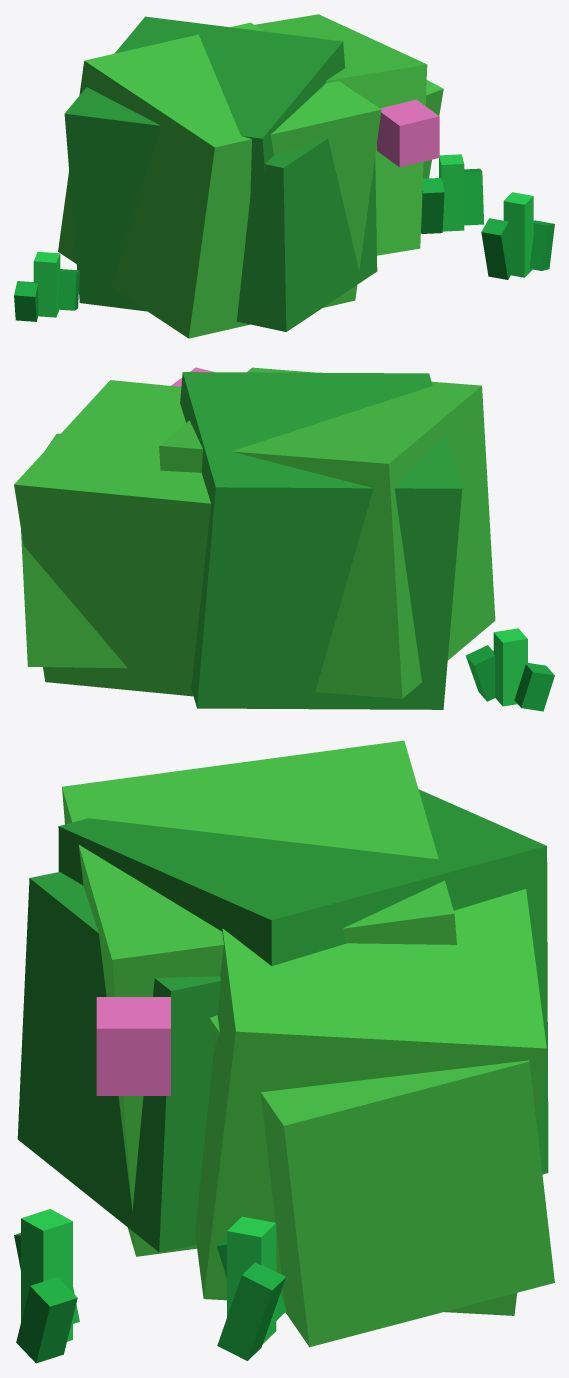
File: Bush.fbx
3 views of the same model, one above another, from view 1: azimuth 30°, elevation 25°; view 2: azimuth 150°, elevation 25°; view 3: azimuth 270°, elevation 25° (orthographic). The views are drawn at different scales.
Parts seen in each view (by area): view 1: LeafGreen.002, LeafDark.001, GrassDark.005, Grass.005, FlowerPink; view 2: LeafGreen.002, LeafDark.001, GrassDark.005, Grass.005; view 3: LeafGreen.002, LeafDark.001, GrassDark.005, FlowerPink, Grass.005.
Boxes of the visible parts, <box> form: LeafGreen.002: <box>58,14,443,338</box>; LeafDark.001: <box>64,16,377,331</box>; GrassDark.005: <box>14,168,554,321</box>; Grass.005: <box>33,154,533,317</box>; FlowerPink: <box>377,99,439,167</box>; LeafGreen.002: <box>14,367,495,698</box>; LeafDark.001: <box>180,372,462,709</box>; GrassDark.005: <box>465,645,554,711</box>; Grass.005: <box>493,628,527,706</box>; LeafGreen.002: <box>62,740,554,1347</box>; LeafDark.001: <box>17,789,548,1252</box>; GrassDark.005: <box>14,1233,286,1363</box>; FlowerPink: <box>96,997,170,1095</box>; Grass.005: <box>21,1209,276,1343</box>.
Bounding box in the file's own units: 7.07 × 3.27 × 4.35.
